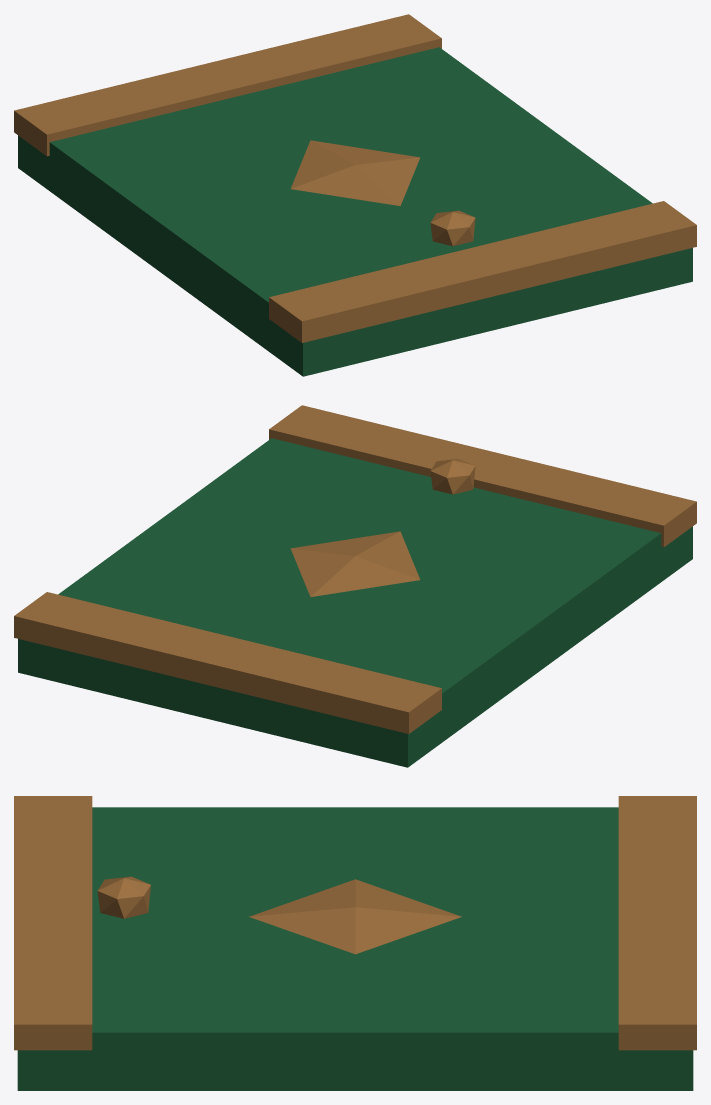
Rendered from drop_cape_ranged.glb.
3 renders of one model, top to bottom at view 1: azimuth 30°, elevation 25°; view 2: azimuth 150°, elevation 25°; view 3: azimuth 270°, elevation 25°, orthographic. The views are drawn at different scales.
Parts seen in each view (by area): view 1: drop_cape_ranged; view 2: drop_cape_ranged; view 3: drop_cape_ranged.
Part boxes in pixels (left/top/right/bottom): drop_cape_ranged: left=14, top=14, right=696, bottom=376; drop_cape_ranged: left=14, top=405, right=696, bottom=767; drop_cape_ranged: left=14, top=796, right=696, bottom=1090.
Size of the model in its own units: 0.304 by 0.062 by 0.384.
